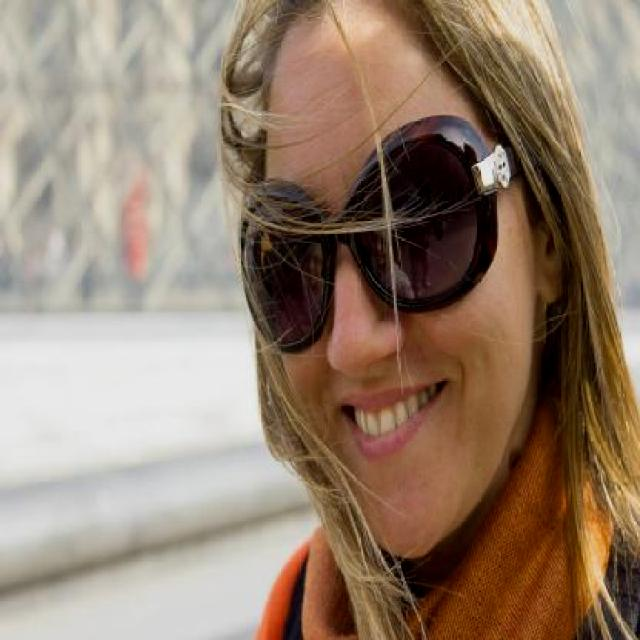face_nomask: (234, 110, 480, 465)
glasses: (242, 114, 528, 354)
